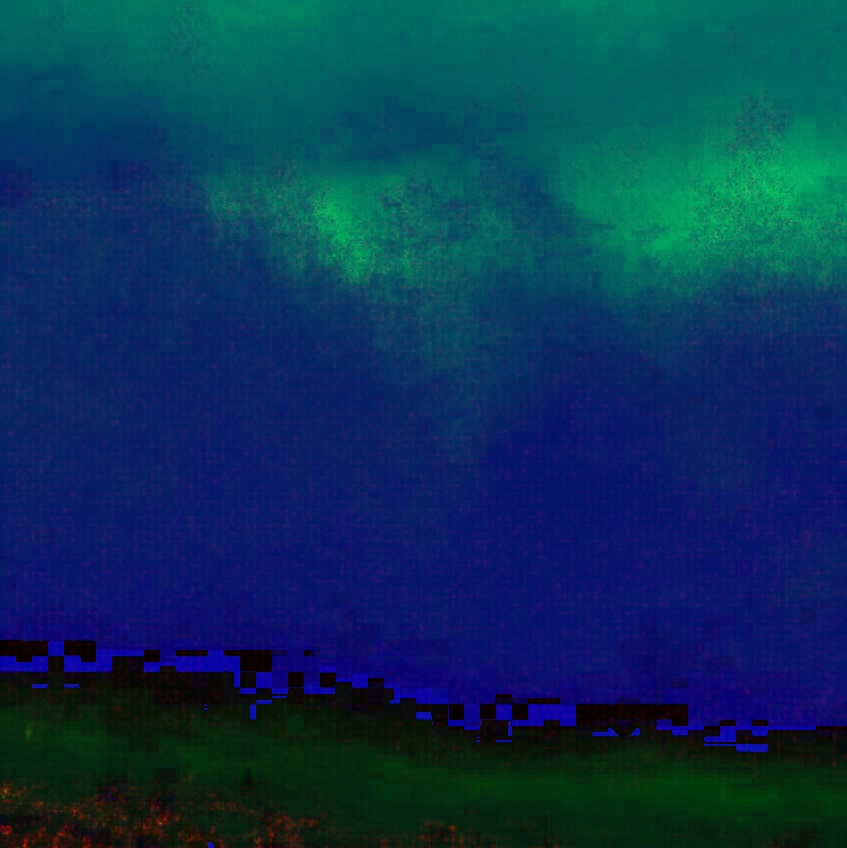rip_current: (377, 165, 604, 674)
